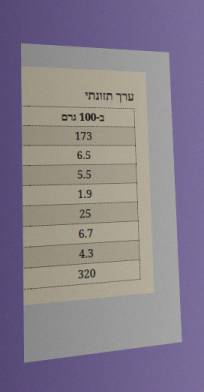carbs: (77, 204, 93, 223)
energy: (73, 127, 94, 145)
fat: (75, 165, 93, 184)
protein: (75, 146, 93, 164)
